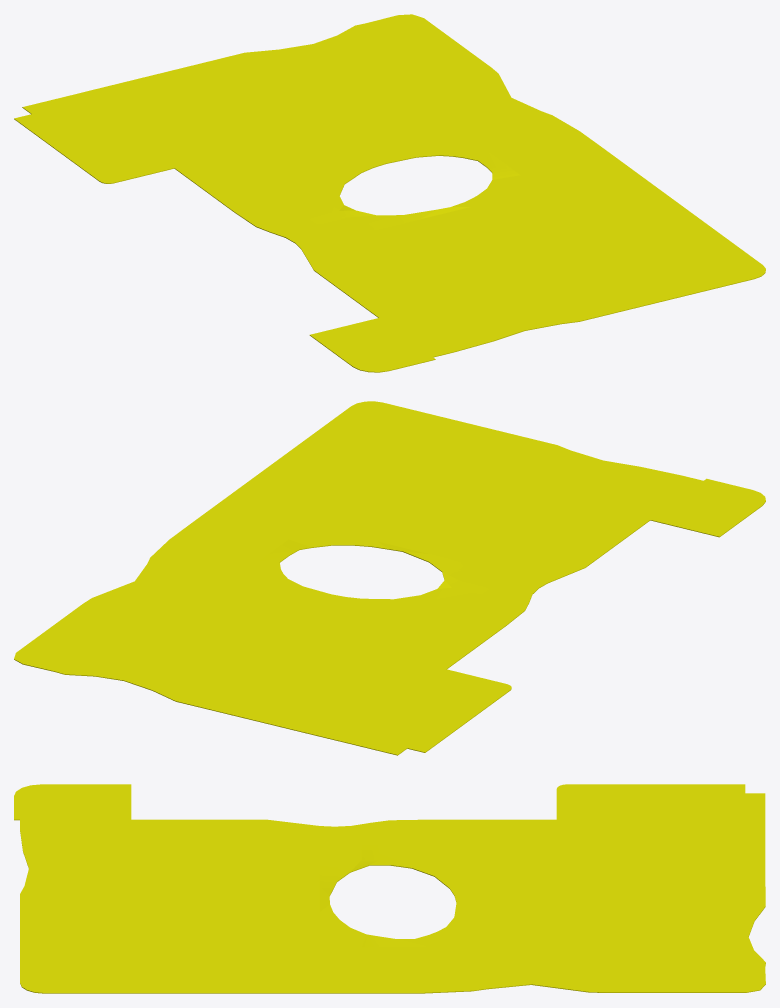
Rendered from sm_hana_building_6f_ceiling.glb.
3 renders of one model, top to bottom at view 1: azimuth 30°, elevation 25°; view 2: azimuth 150°, elevation 25°; view 3: azimuth 270°, elevation 25°, orthographic. The views are drawn at different scales.
Parts seen in each view (by area): view 1: sm_hana_building_6f_ceiling; view 2: sm_hana_building_6f_ceiling; view 3: sm_hana_building_6f_ceiling.
Boxes of the visible parts, x1,y1,x2,y2 form: sm_hana_building_6f_ceiling: [14, 14, 765, 372]; sm_hana_building_6f_ceiling: [14, 401, 765, 755]; sm_hana_building_6f_ceiling: [14, 784, 765, 993].
Size of the model in its own units: 64.61 by 0.2523 by 98.42.
1 material, 1 textured.
